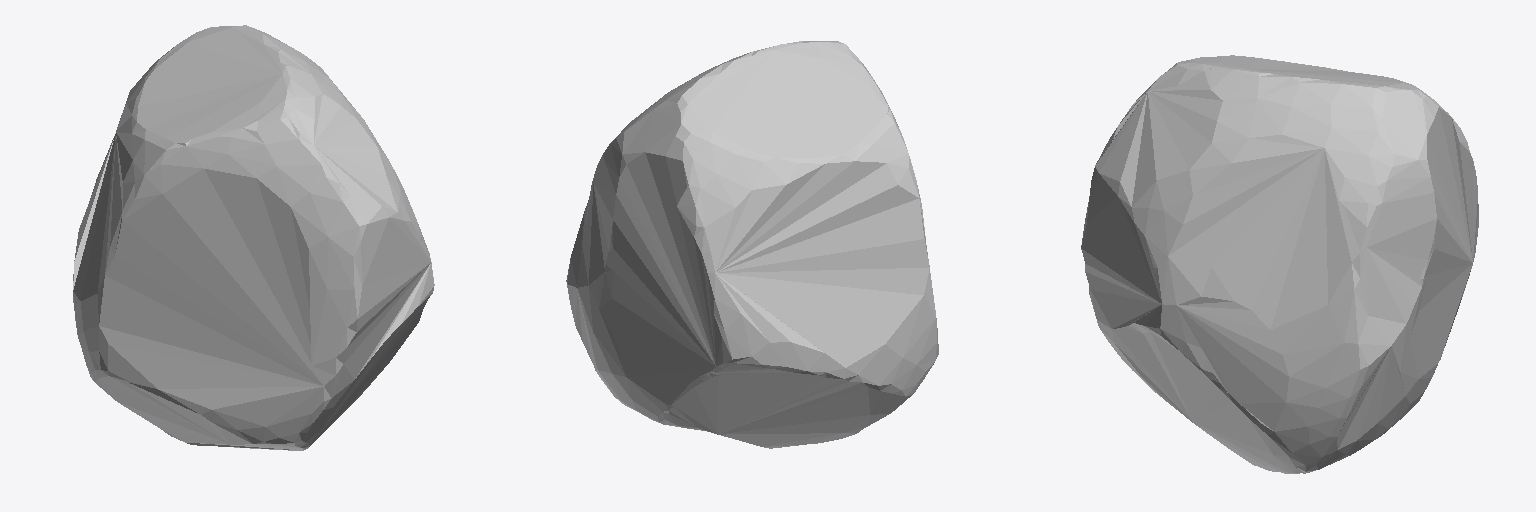
Rendered from stone.obj.
3 views of the same model, side by side, from view 1: azimuth 30°, elevation 25°; view 2: azimuth 150°, elevation 25°; view 3: azimuth 270°, elevation 25° (orthographic).
Parts seen in each view (by area): view 1: Cube; view 2: Cube; view 3: Cube.
Part boxes in pixels (x1,y1,x2,y2): Cube: (73, 25, 434, 450); Cube: (566, 41, 938, 448); Cube: (1081, 55, 1478, 473).
Size of the model in its own units: 2.77 by 3.13 by 2.93.